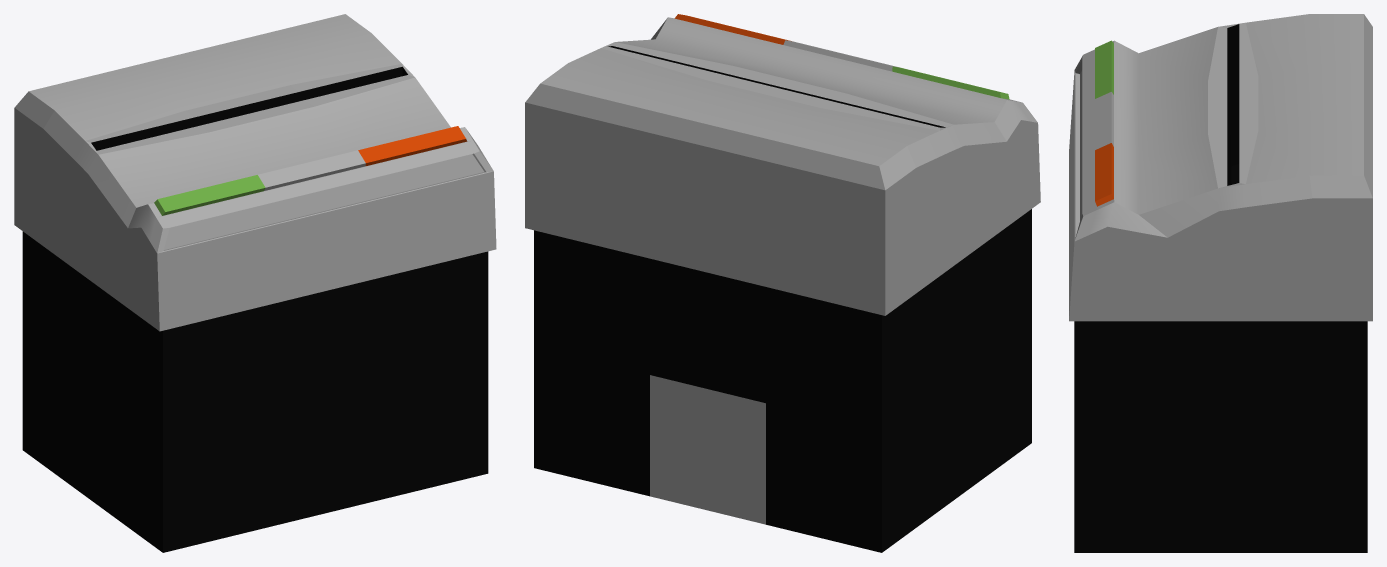
File: PaperShredder 1.fbx
3 renders of one model, left to right at view 1: azimuth 30°, elevation 25°; view 2: azimuth 150°, elevation 25°; view 3: azimuth 270°, elevation 25°, orthographic. The views are drawn at different scales.
Parts seen in each view (by area): view 1: paperShredder; view 2: paperShredder; view 3: paperShredder.
Part boxes in pixels (box(x1,y1,x2,y2)): paperShredder: box(14, 14, 496, 552); paperShredder: box(525, 14, 1040, 552); paperShredder: box(1069, 14, 1372, 552).
Size of the model in its own units: 0.7089 by 0.7226 by 0.53.
